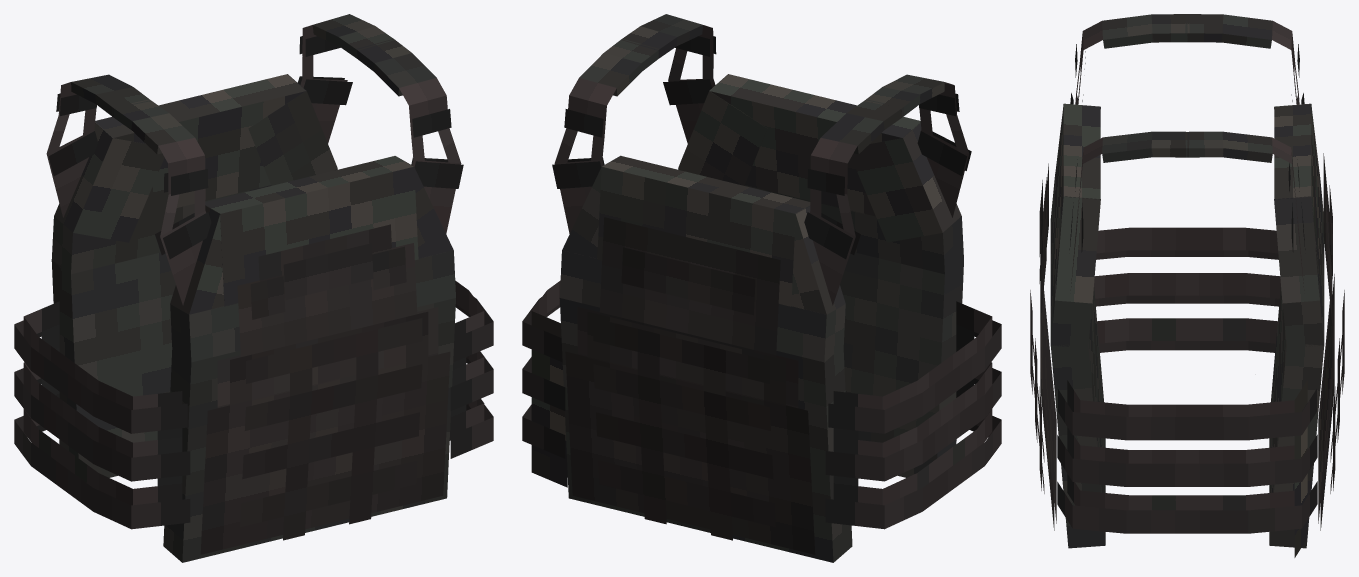
File: cws_bulletproof.obj
3 renders of one model, left to right at view 1: azimuth 30°, elevation 25°; view 2: azimuth 150°, elevation 25°; view 3: azimuth 270°, elevation 25°, orthographic. The views are drawn at different scales.
Parts seen in each view (by area): view 1: cube; view 2: cube; view 3: cube.
Boxes of the visible parts, <box> form: cube: <box>14,14,493,562</box>; cube: <box>522,14,1001,562</box>; cube: <box>1030,14,1344,557</box>.
Bounding box in the file's own units: 0.5433 × 0.5585 × 0.394.
